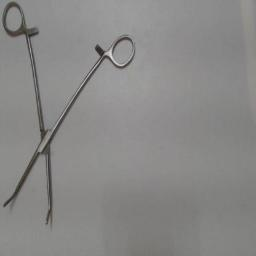Lahey Forceps: (2, 0, 138, 228)
